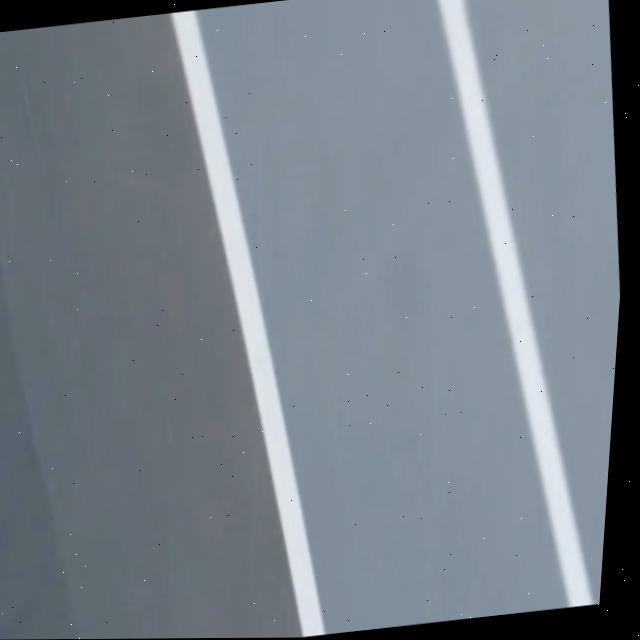left: (171, 10, 325, 637)
